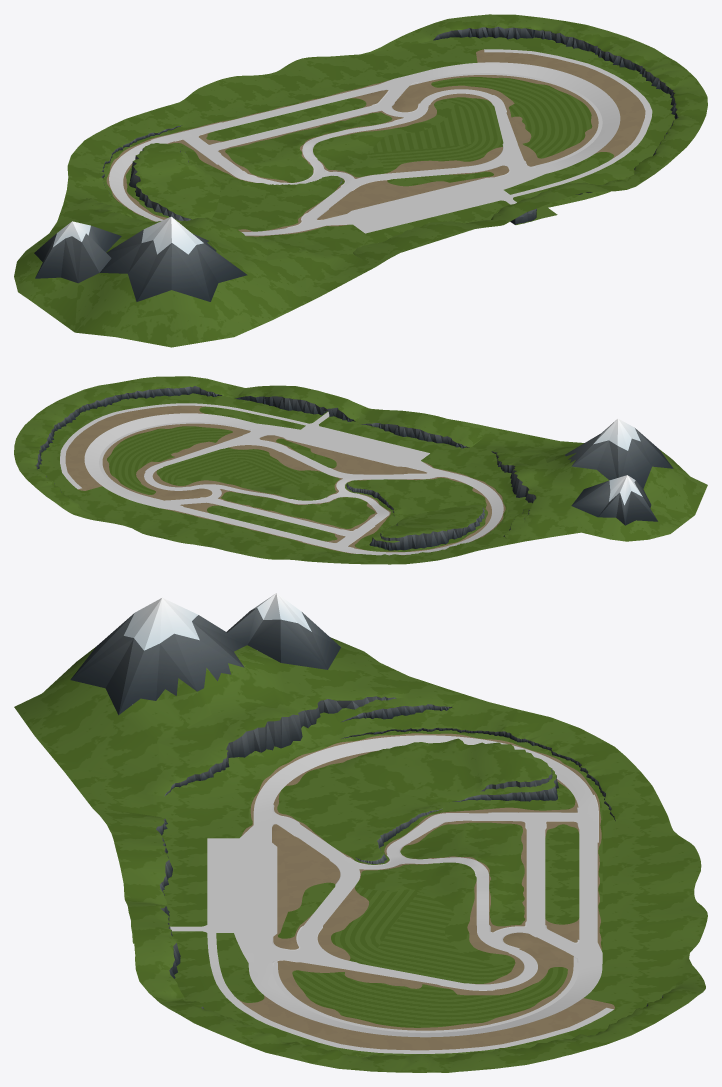
The model's file is terrain.fbx.
The picture shows the model from 3 angles, top to bottom: view 1: azimuth 30°, elevation 25°; view 2: azimuth 150°, elevation 25°; view 3: azimuth 270°, elevation 25°; orthographic projection. The views are drawn at different scales.
Visible parts, largest first — view 1: 0GRASS, 1GRASS, Plane001, 1GRAVEL, 1TARMAC_oval, 1TARMAC_inner, 1GRASS_2, 0GRASS2, sand_outside, 1CONCRETE_red, 1TARMAC_back, 1TARMACgarages (+3 smaller); view 2: 0GRASS, Plane001, 1GRASS, 1GRAVEL, 1TARMAC_oval, 1TARMAC_inner, 1GRASS_2, 0GRASS2, sand_outside, 1CONCRETE_red, 1TARMAC_back, 1TARMACgarages (+3 smaller); view 3: 0GRASS, 1GRASS, Plane001, 1GRAVEL, 1TARMAC_oval, 1TARMAC_inner, 1GRASS_2, 0GRASS2, sand_outside, 1CONCRETE_red, 1TARMAC_back, 1TARMACgarages (+3 smaller).
Part boxes in pixels (box(x1,y1,x2,y2)): 0GRASS: box(14, 14, 707, 347); 1GRASS: box(105, 79, 493, 236); Plane001: box(34, 26, 678, 301); 1GRAVEL: box(106, 75, 598, 236); 1TARMAC_oval: box(109, 64, 616, 235); 1TARMAC_inner: box(184, 83, 535, 225); 1GRASS_2: box(367, 97, 503, 171); 0GRASS2: box(431, 77, 592, 158); sand_outside: box(476, 49, 645, 158); 1CONCRETE_red: box(348, 62, 620, 225); 1TARMAC_back: box(484, 49, 652, 204); 1TARMACgarages: box(355, 190, 512, 233); 0GRASS: box(14, 376, 707, 564); Plane001: box(35, 386, 673, 550); 1GRASS: box(162, 438, 506, 555); 1GRAVEL: box(102, 423, 505, 555); 1TARMAC_oval: box(87, 415, 503, 555); 1TARMAC_inner: box(144, 429, 445, 546); 1GRASS_2: box(156, 447, 319, 486); 0GRASS2: box(107, 426, 232, 494); sand_outside: box(65, 405, 209, 490); 1CONCRETE_red: box(84, 413, 421, 510); 1TARMAC_back: box(60, 403, 329, 489); 1TARMACgarages: box(301, 423, 429, 459); 0GRASS: box(14, 637, 707, 1072); 1GRASS: box(234, 732, 602, 965); Plane001: box(70, 593, 662, 1008); 1GRAVEL: box(242, 733, 601, 1030); 1TARMAC_oval: box(253, 735, 597, 1036); 1TARMAC_inner: box(272, 810, 579, 990); 1GRASS_2: box(331, 887, 515, 983); 0GRASS2: box(292, 967, 567, 1027); sand_outside: box(239, 995, 614, 1050); 1CONCRETE_red: box(234, 838, 602, 1037); 1TARMAC_back: box(170, 925, 613, 1053); 1TARMACgarages: box(207, 838, 233, 932).
Size of the model in its own units: 87797 by 11004 by 56482.
